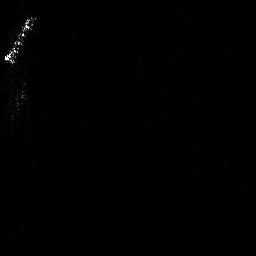ship: (1, 13, 40, 67)
